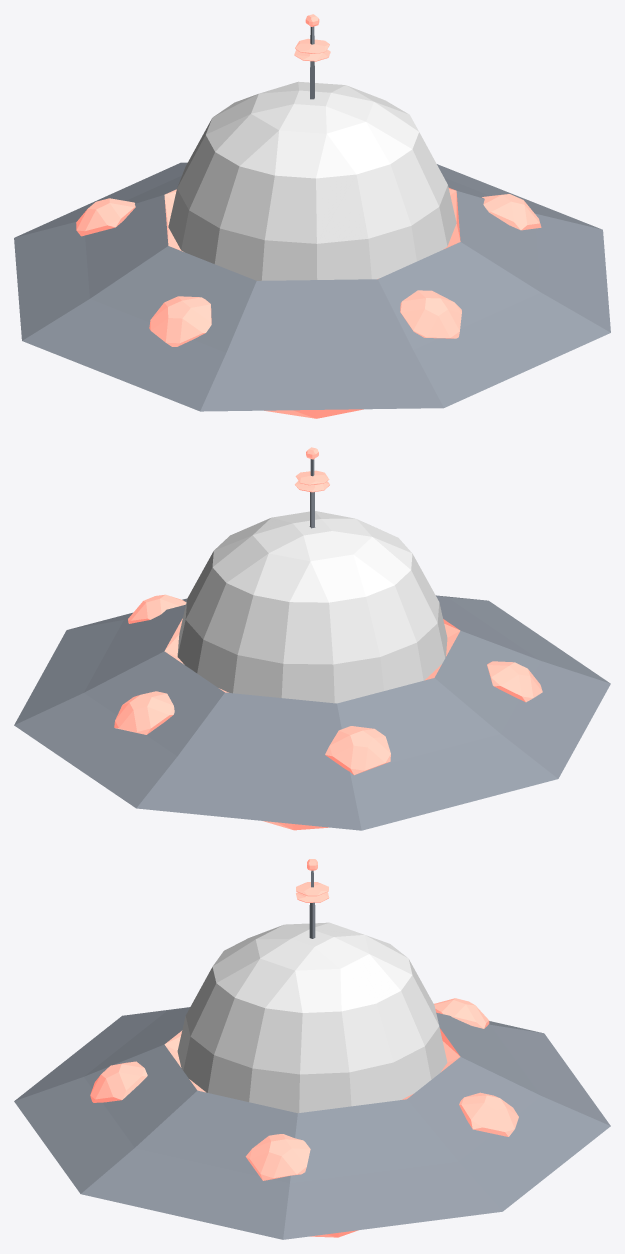
The model's file is SM_ufo3.fbx.
The picture shows the model from 3 angles, top to bottom: view 1: azimuth 30°, elevation 25°; view 2: azimuth 150°, elevation 25°; view 3: azimuth 270°, elevation 25°; orthographic projection. The views are drawn at different scales.
Visible parts, largest first — view 1: SM_ufo3; view 2: SM_ufo3; view 3: SM_ufo3.
Boxes of the visible parts, left/top/right/bottom form: SM_ufo3: left=14, top=14, right=610, bottom=418; SM_ufo3: left=14, top=447, right=610, bottom=830; SM_ufo3: left=14, top=859, right=610, bottom=1239.
Bounding box in the file's own units: 1.42 × 0.8993 × 1.42.
